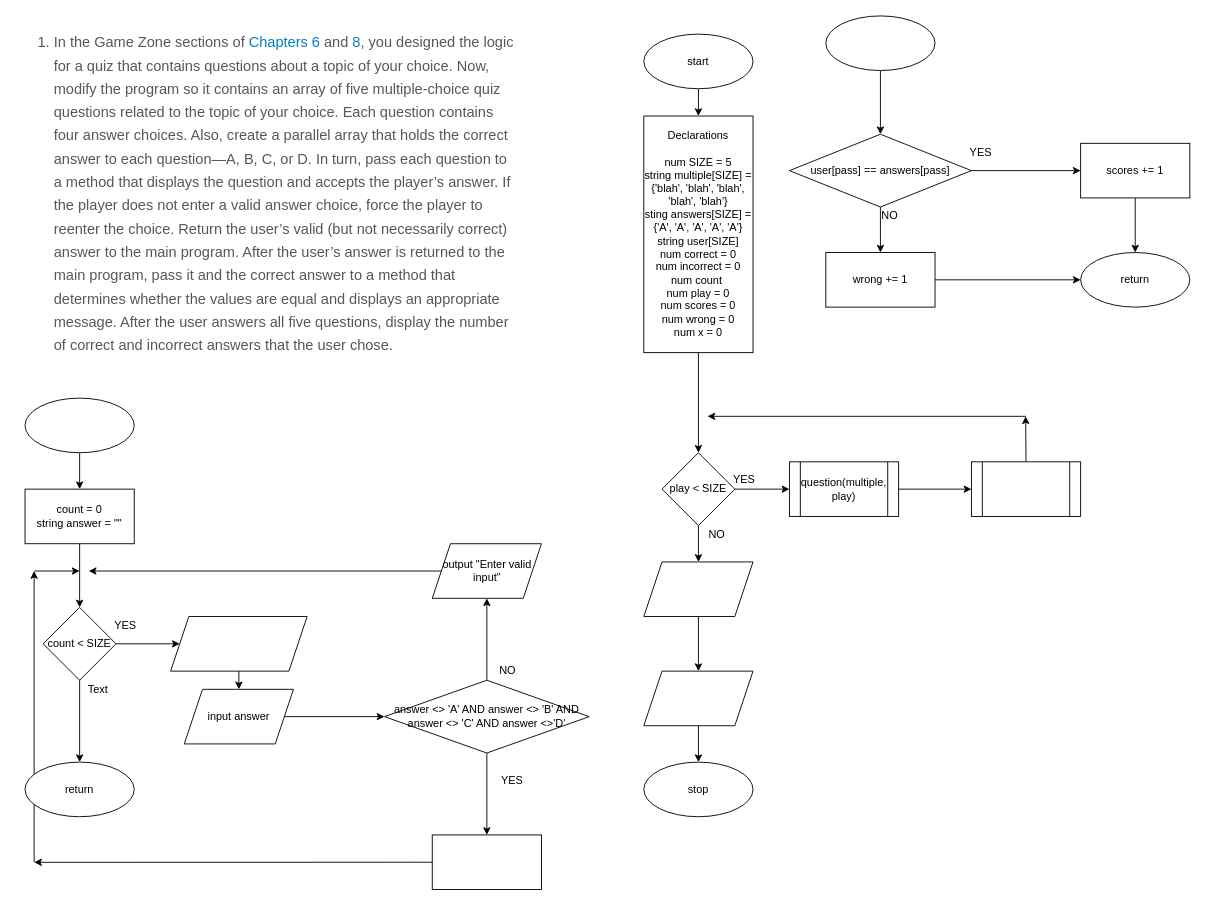
Some shapes in this 1206 by 905 pixel diagram are drawn without their labels. The centre of each missing label's shape, as x and y in pixels:
isEqual(multiple, answers, play): [1026,488]
isEqual(string[] user, string[] answers, num pass): [880,43]
output "Correct: "scores, "Incorrect: ", wrong: [698,589]
output "end of program": [698,698]
output multiple[count]: [238,643]
question(string[] multiple, num pass): [79,425]
user[count] = answer count += 1: [486,862]
